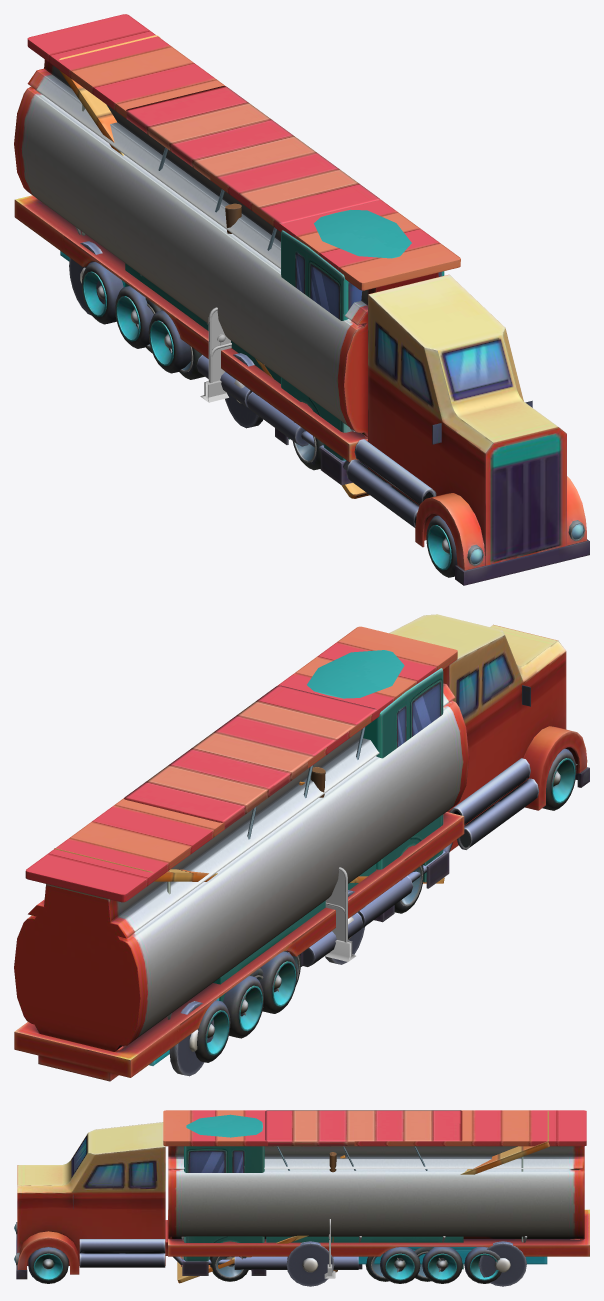
Rendered from updated barriers.fbx.
3 views of the same model, one above another, from view 1: azimuth 30°, elevation 25°; view 2: azimuth 150°, elevation 25°; view 3: azimuth 270°, elevation 25° (orthographic). The views are drawn at different scales.
Parts seen in each view (by area): view 1: Truck_2, Truck_1, slide_wagon, fence_barrier; view 2: Truck_2, Truck_1, slide_wagon, fence_barrier_2; view 3: Truck_2, Truck_1, slide_wagon.
Part boxes in pixels (box(x1,y1,x2,y2)): Truck_2: box(14, 14, 589, 585); Truck_1: box(125, 86, 444, 485); slide_wagon: box(59, 35, 369, 498); fence_barrier: box(205, 334, 231, 402); Truck_2: box(14, 614, 589, 1081); Truck_1: box(124, 650, 449, 1016); slide_wagon: box(54, 848, 444, 1076); fence_barrier_2: box(325, 867, 355, 961); Truck_2: box(14, 1110, 589, 1283); Truck_1: box(181, 1110, 463, 1281); slide_wagon: box(177, 1111, 549, 1286).
Bounding box in the file's own units: 211 × 310 × 1122.
